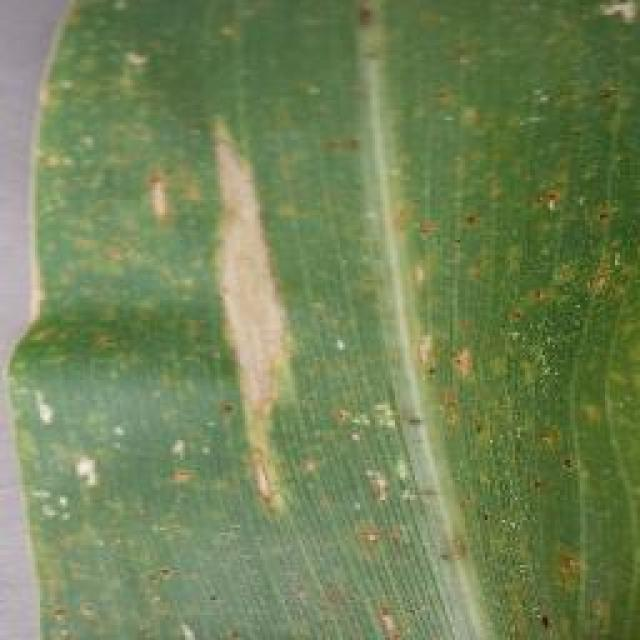Corn___Northern_Leaf_Blight: (2, 5, 638, 640)
